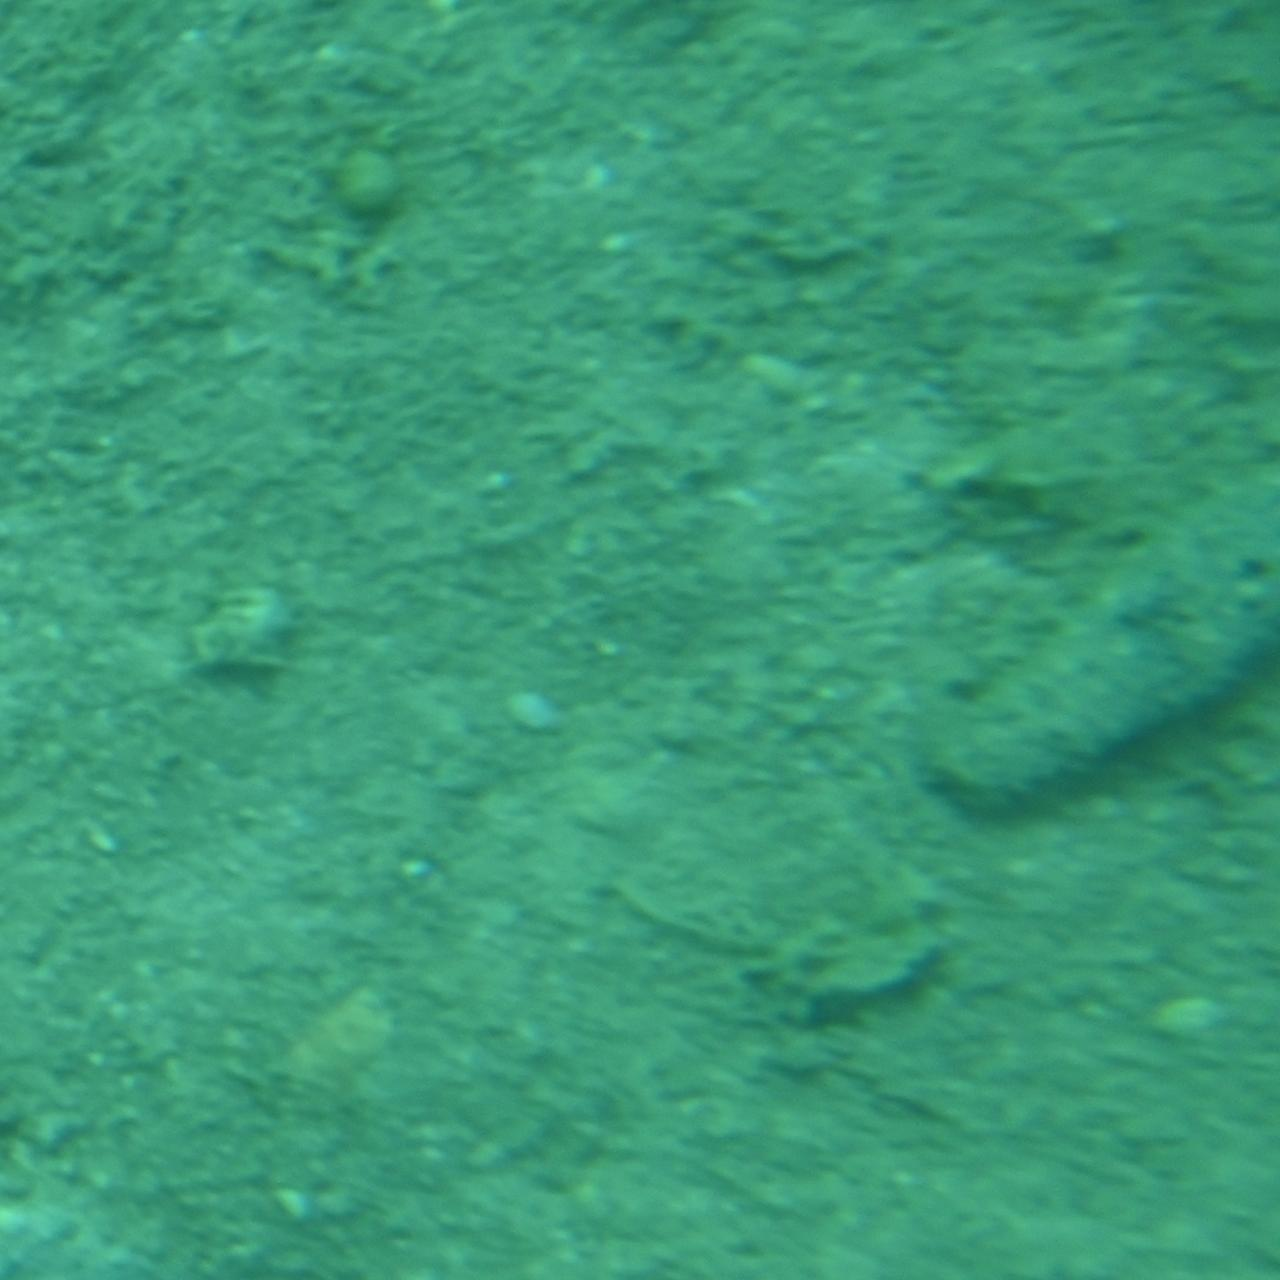Holothuria tubulosa: (911, 442, 1279, 838)
